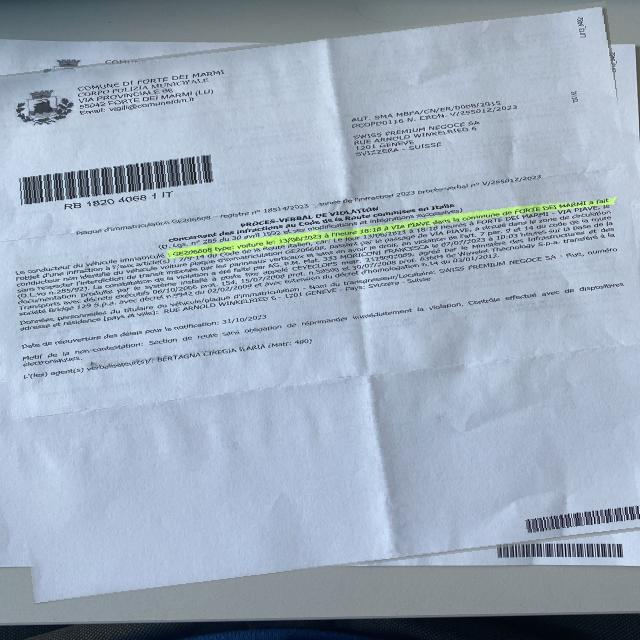paper-document-: (0, 9, 640, 604)
